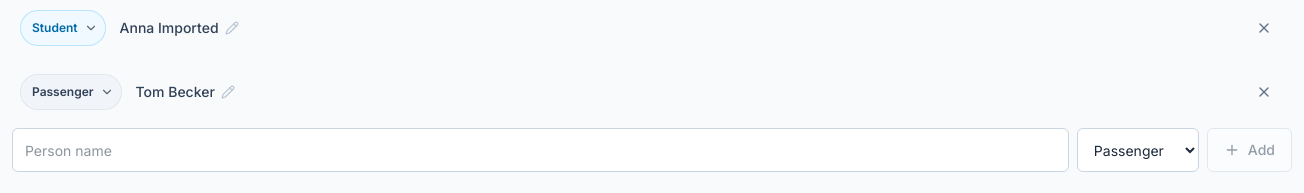
CrewEditor › cancels a rename on Escape
Click the button with aria-label "Change name of Anna Imported".
click(169, 28)  # box [114, 10, 1234, 46]
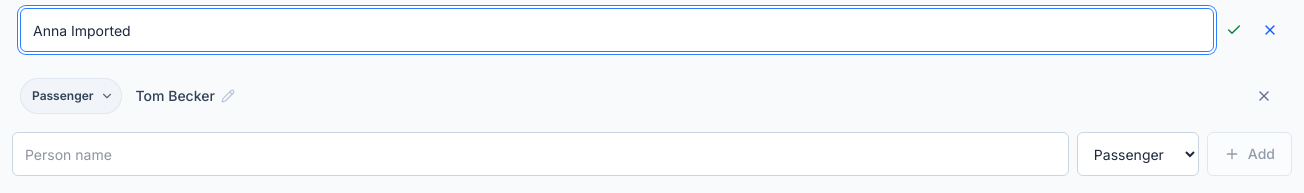
Type "xyz" into the dropdown named "Name of Anna Imported".
click(617, 30); type("xyz")  # box [20, 8, 1214, 52]
Then press Escape
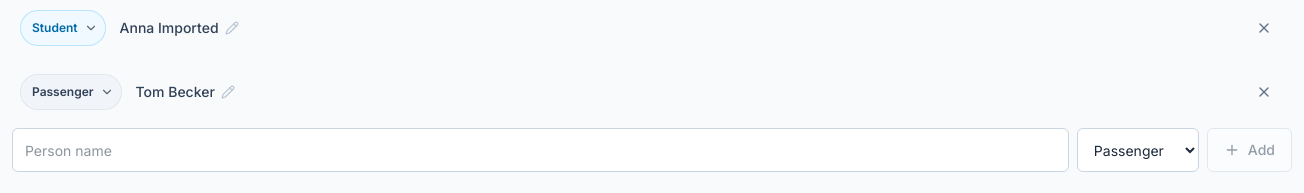
Now the button with aria-label "Change name of Anna Imported" is shown, box [114, 10, 1234, 46]
